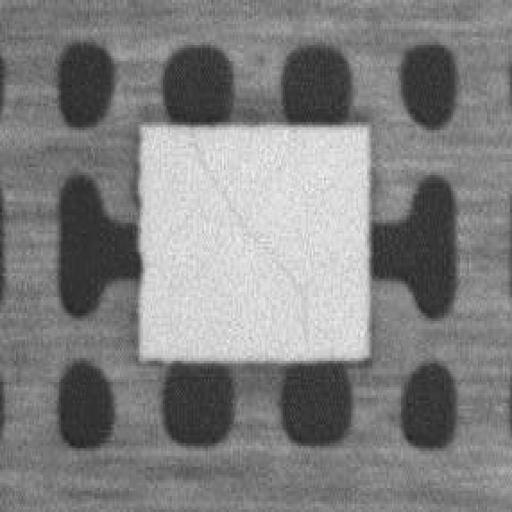DIE_CRACK: (186, 122, 308, 340)
